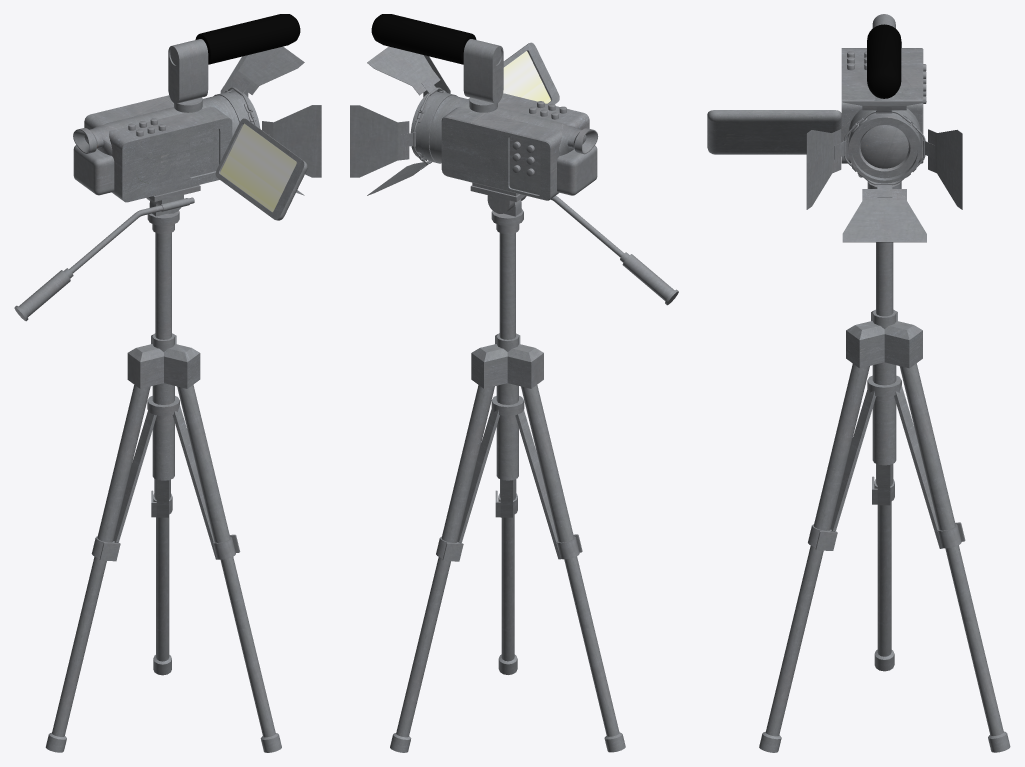
The model's file is camera-stand.fbx.
The picture shows the model from 3 angles, left to right: view 1: azimuth 30°, elevation 25°; view 2: azimuth 150°, elevation 25°; view 3: azimuth 270°, elevation 25°; orthographic projection. The views are drawn at different scales.
Visible parts, largest first — view 1: Mesh; view 2: Mesh; view 3: Mesh.
Part boxes in pixels (bbox=[...]): Mesh: bbox=[14, 14, 321, 752]; Mesh: bbox=[350, 14, 678, 752]; Mesh: bbox=[707, 14, 1010, 752].
Bounding box in the file's own units: 127 × 284 × 108.
